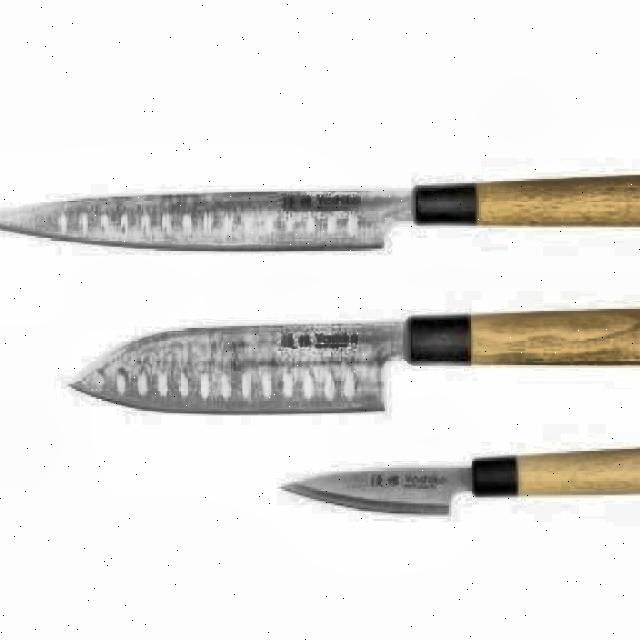knife: (66, 303, 640, 414), (0, 171, 640, 250), (276, 441, 640, 526)
